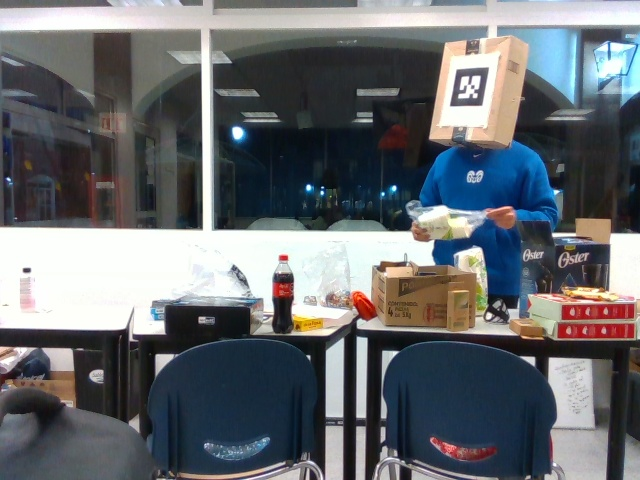ar2: (450, 65, 490, 110)
